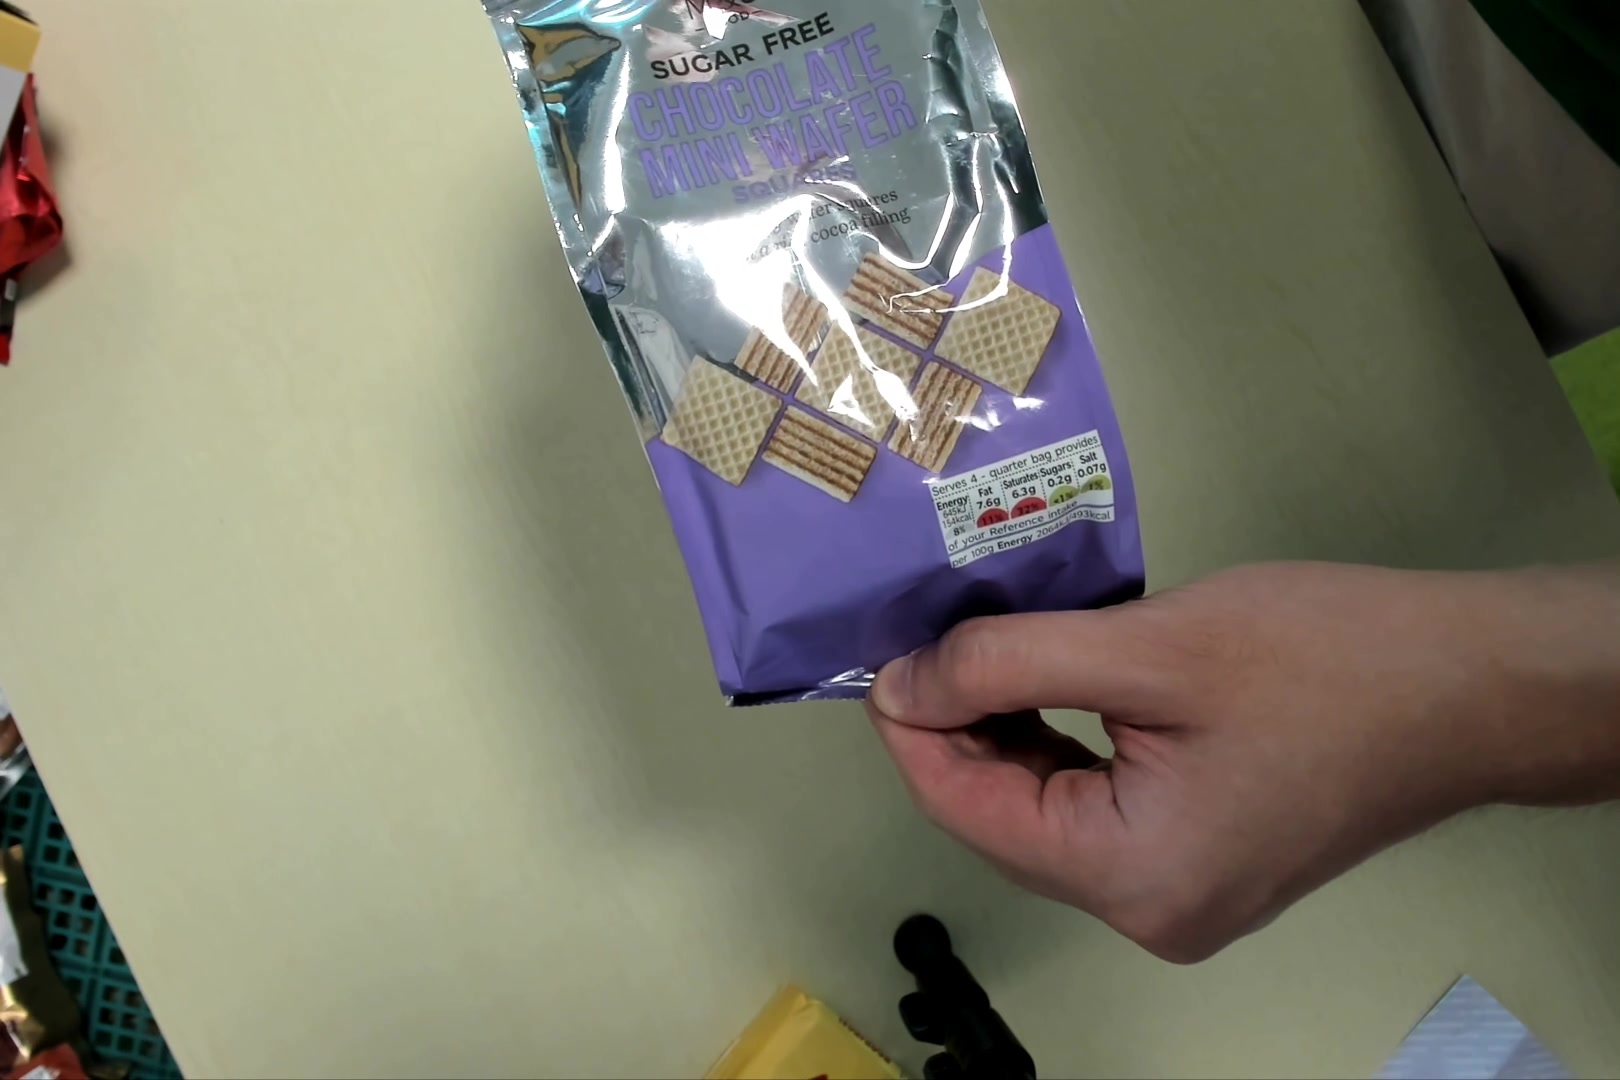SweetsChocolatesOthers_100-199g_NonHalal_NonHealthy: (485, 8, 1139, 714)
